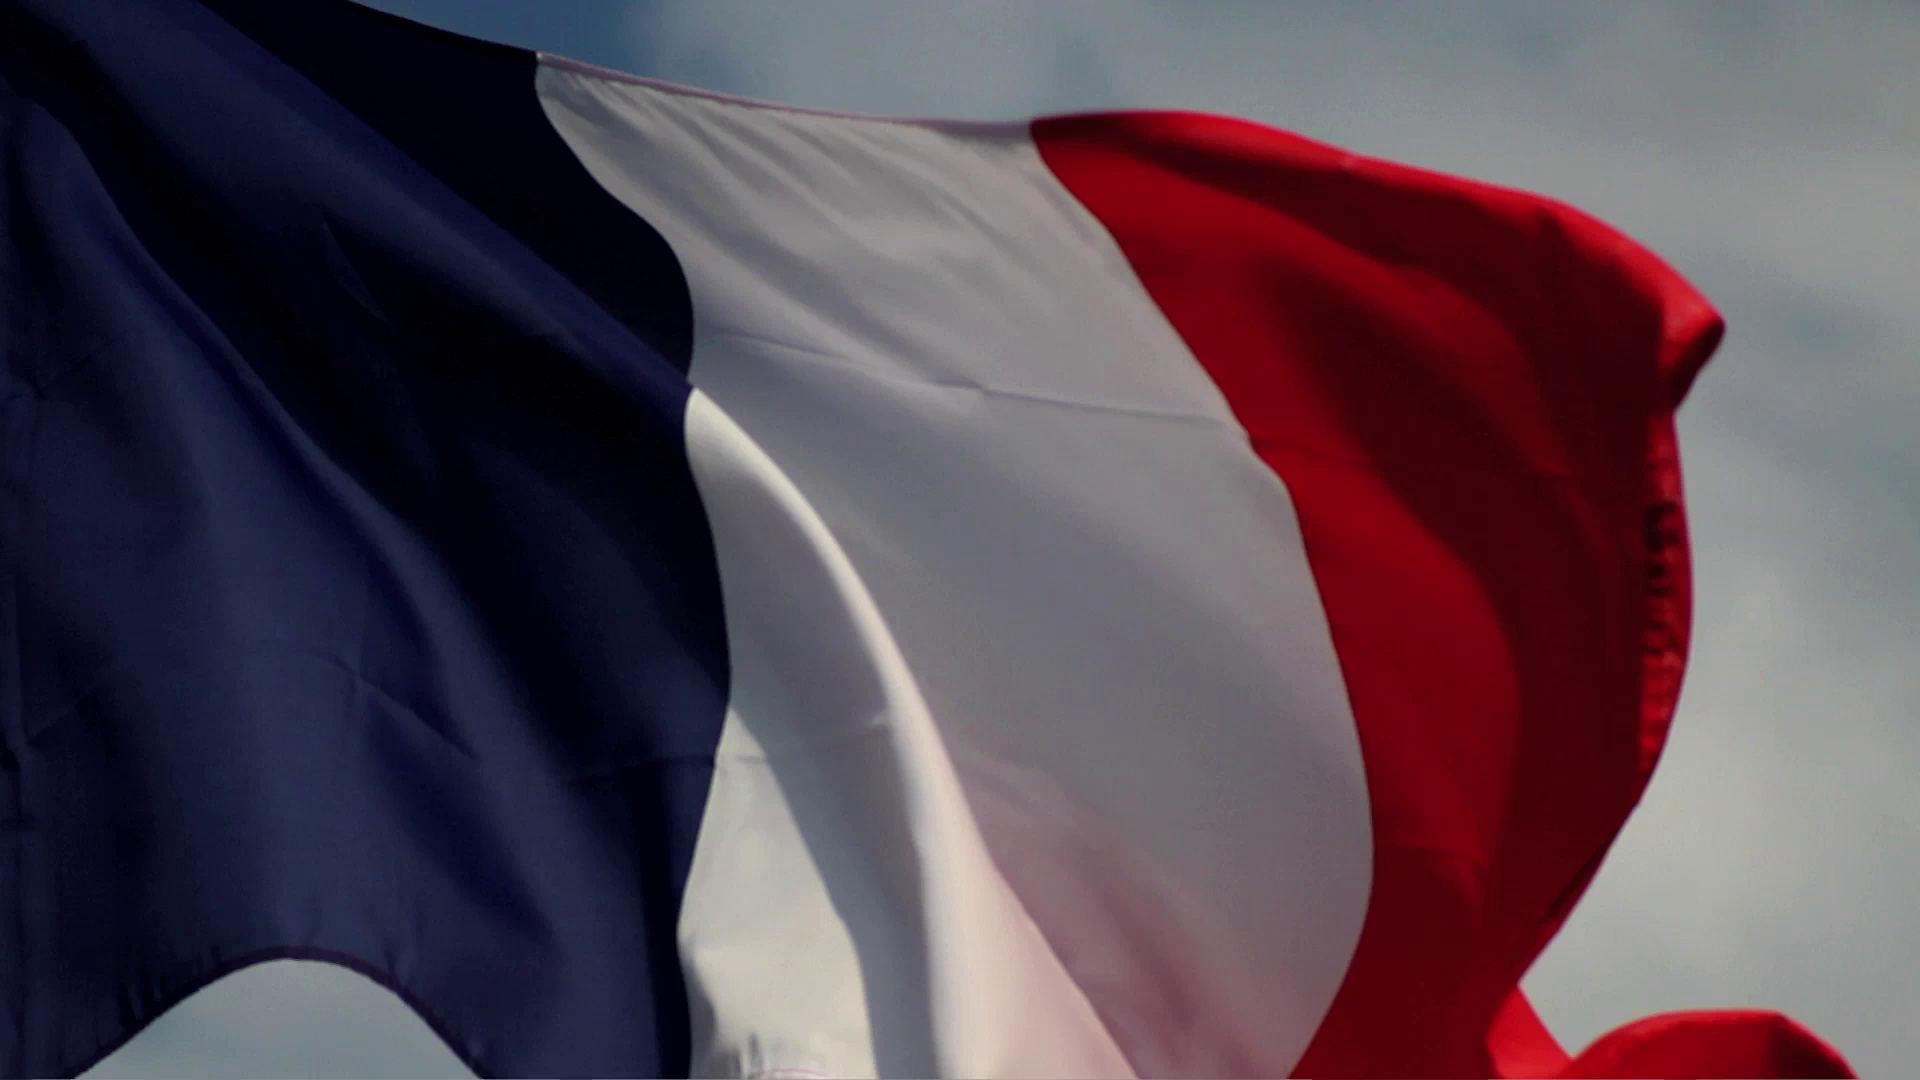French Flag: (1, 4, 1842, 1080)
